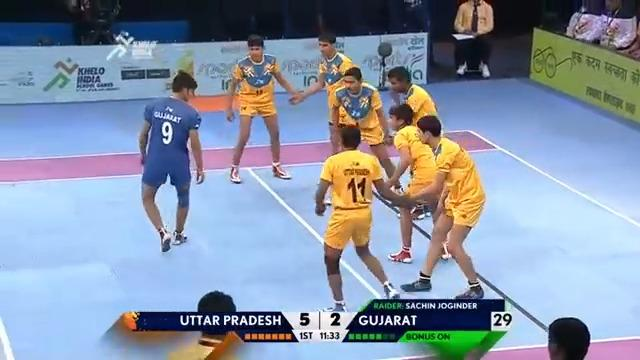Player: (314, 125, 420, 312), (399, 114, 486, 299), (224, 33, 299, 183), (384, 103, 453, 262), (329, 66, 400, 190), (288, 31, 355, 155), (386, 65, 438, 126)
Raider: (137, 69, 205, 252)
referee: (565, 0, 639, 60), (451, 0, 494, 78), (401, 0, 438, 67), (72, 0, 123, 45)
